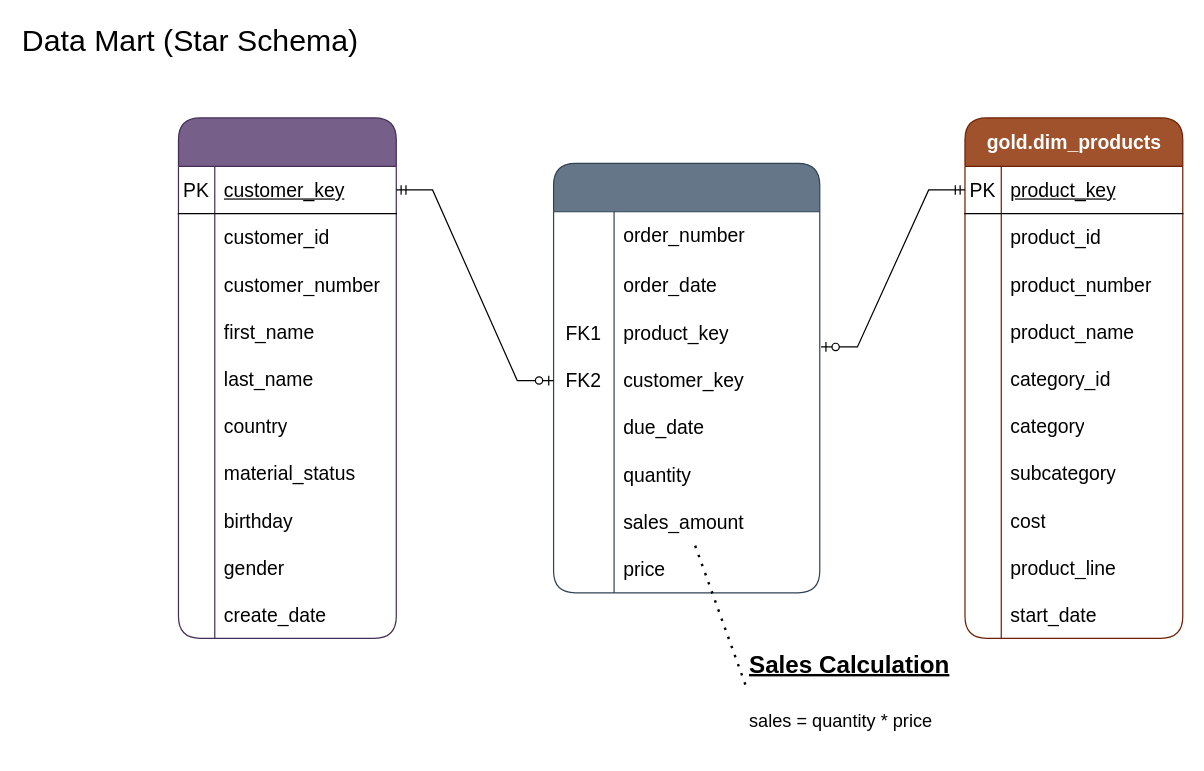
Image size: 1204x771. Some labels were removed from this diagram. Each missing label, with the box of its shape:
gold.dim_customers: (177, 117, 396, 638)
gold.fact_sales: (552, 162, 820, 593)
